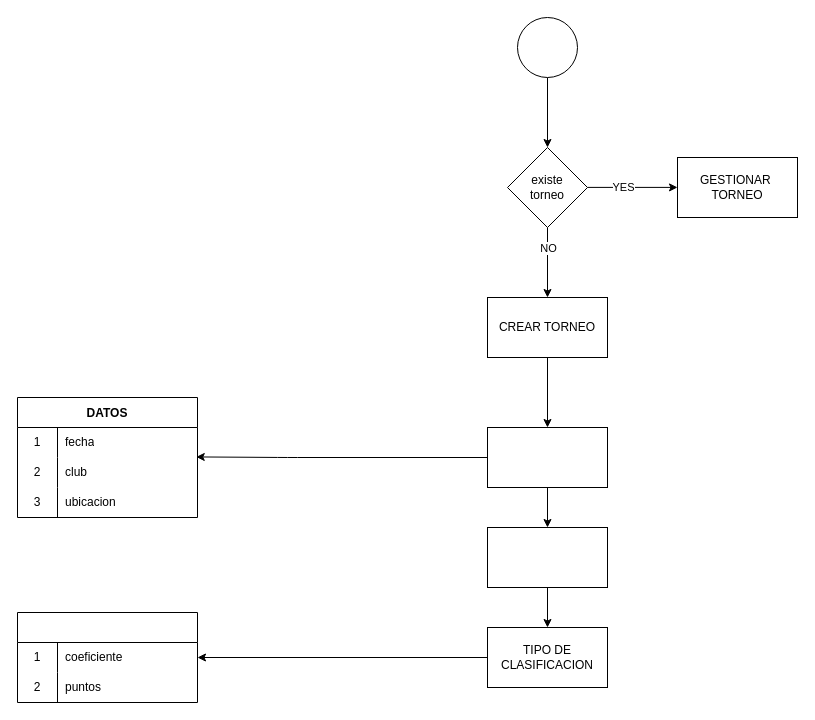
This 815x720 diagram has some shape labels left out. Each missing label, with the box of its shape:
AÑADIR DATOS: (486, 426, 608, 488)
AÑADIR LIMITE PARTICIPANTES: (486, 526, 608, 588)
Table: (16, 612, 198, 702)
